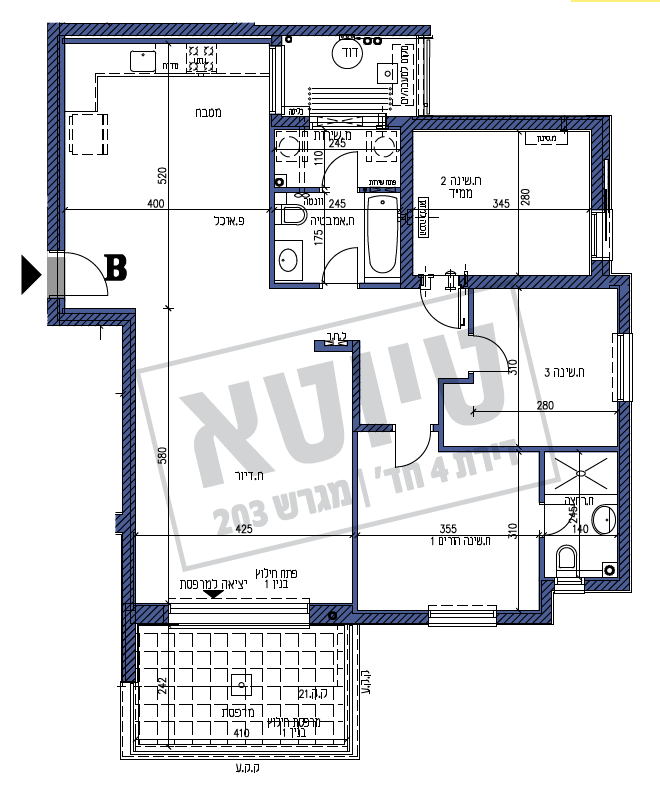door: (385, 434, 432, 482), (418, 292, 465, 340), (478, 329, 509, 384), (322, 240, 361, 280)
wall: (49, 25, 64, 249), (617, 399, 632, 588), (472, 276, 632, 289), (47, 308, 138, 324)
window: (617, 333, 623, 399), (270, 48, 276, 110), (590, 213, 596, 257)
